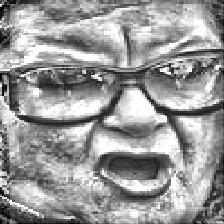angry: (11, 5, 224, 224)
